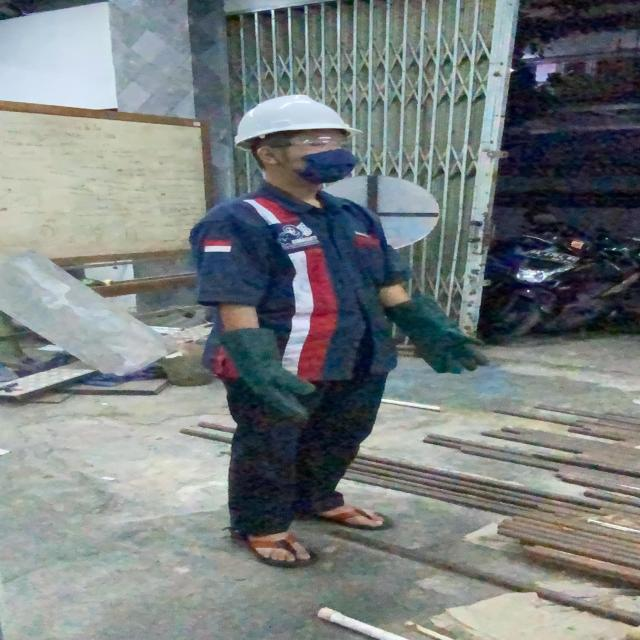face_mask: (295, 134, 360, 181)
glasses: (267, 135, 346, 152)
hand_glove: (215, 330, 324, 424), (385, 301, 493, 378)
head_helmet: (184, 94, 476, 582), (225, 92, 364, 143)
